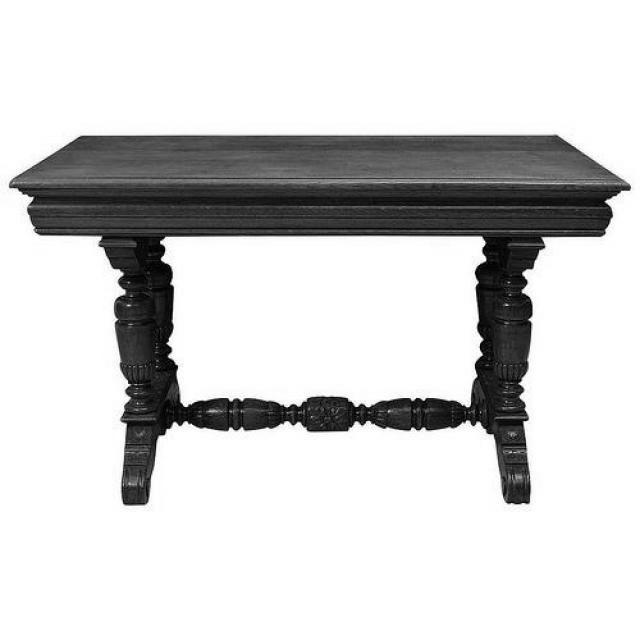table: (8, 133, 630, 507)
